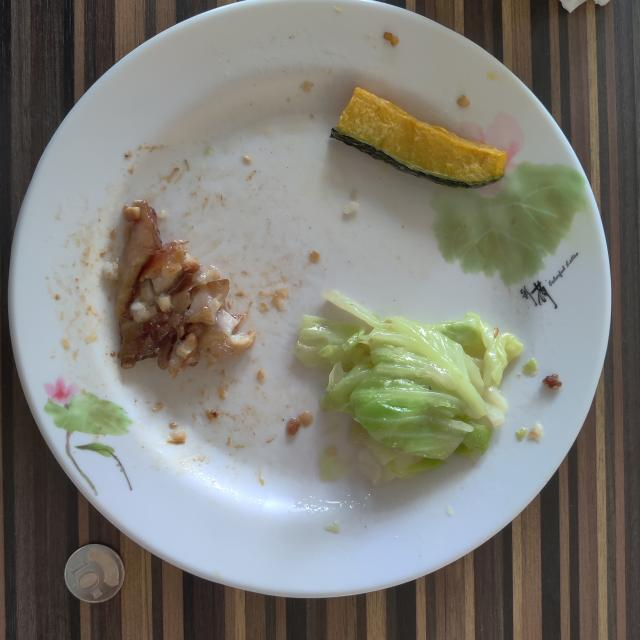Kabayaki sea bream fillet: (115, 201, 255, 378)
cabbage: (295, 290, 522, 486)
coin: (65, 544, 125, 602)
pumpkin: (330, 88, 508, 188)
